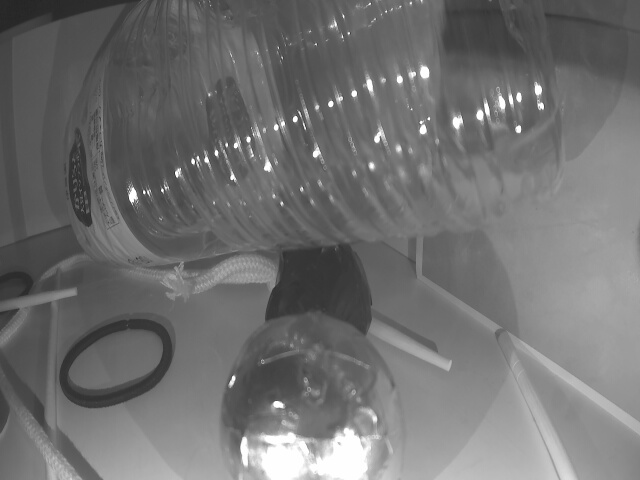Live: (227, 319, 405, 480)
